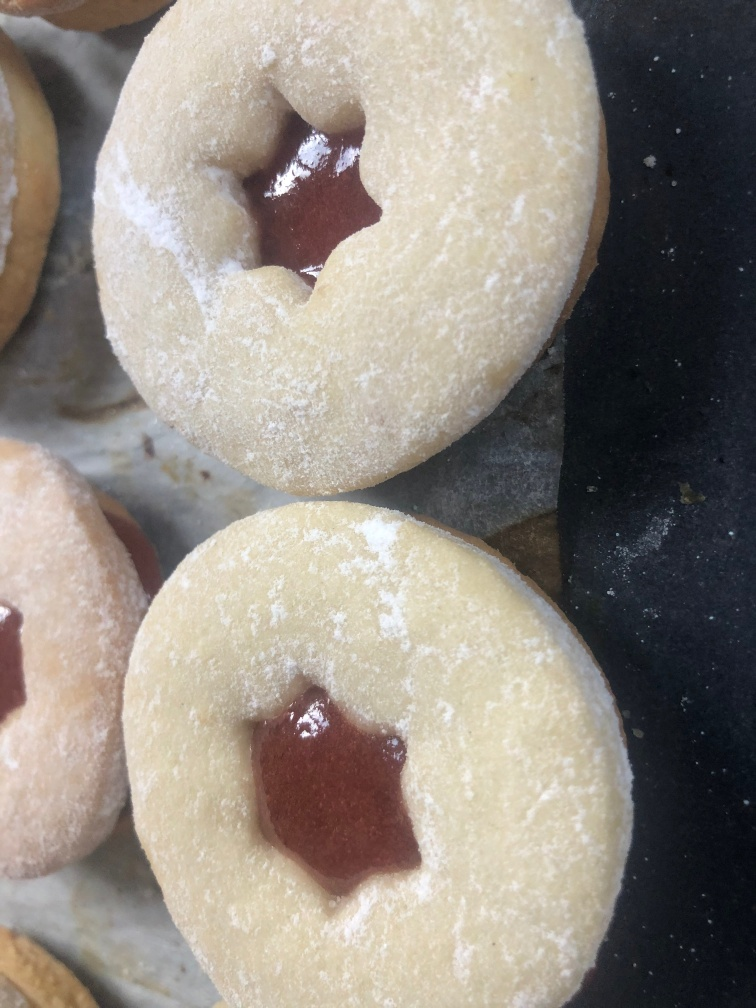christmas shortbread with jam: (90, 1, 622, 490), (120, 500, 632, 1002)
